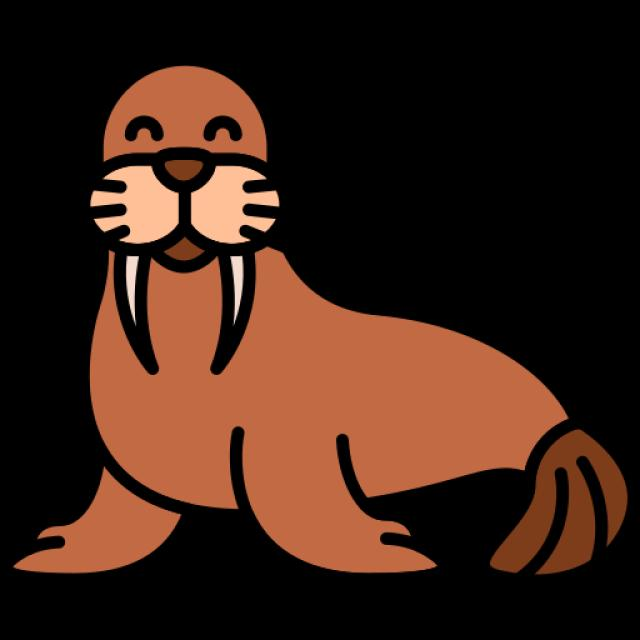walrus: (25, 19, 621, 606)
